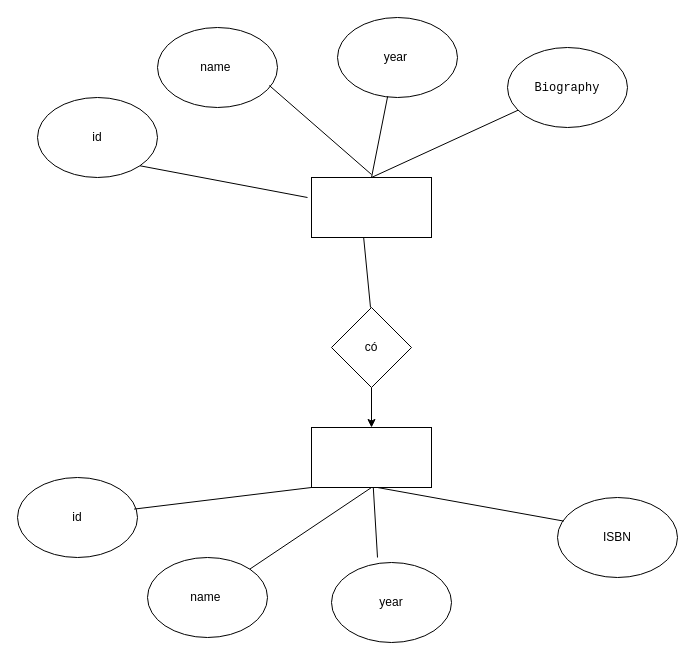
The diagram is 695 pixels wide and 660 high, and some of its shapes have lost their labels. The centre of each missing label's shape, as x and y in pixels:
"author" goes at pixel 371 207.
"books" goes at pixel 371 457.
